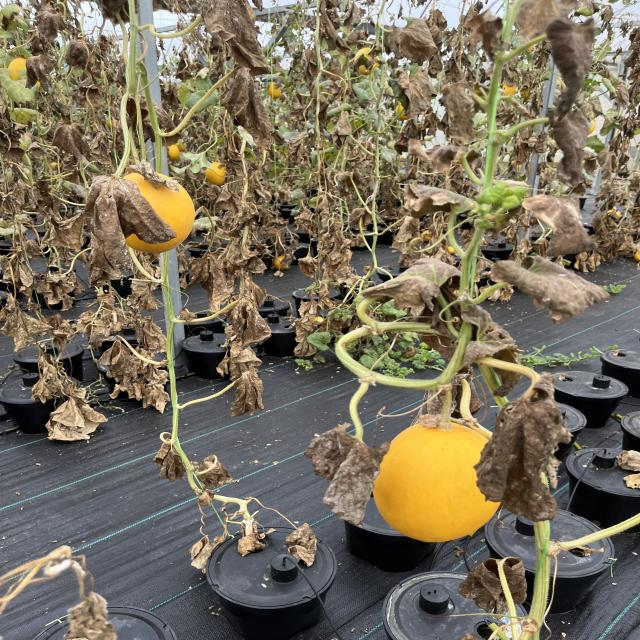bacterial wilt: (482, 399, 574, 506), (321, 415, 394, 513), (378, 257, 458, 314), (387, 139, 459, 201), (519, 203, 600, 255), (213, 34, 272, 86), (228, 74, 268, 143), (387, 23, 445, 68), (258, 124, 313, 168), (198, 0, 267, 34), (49, 393, 103, 435), (444, 81, 492, 125), (328, 93, 366, 147), (77, 295, 124, 338), (38, 327, 71, 385), (226, 372, 272, 413), (322, 1, 372, 38), (31, 208, 75, 250), (320, 199, 354, 252), (407, 188, 474, 214), (7, 251, 46, 294), (133, 366, 168, 409), (6, 304, 46, 339), (227, 307, 263, 345), (195, 460, 235, 494), (205, 205, 238, 244), (39, 7, 71, 46), (274, 527, 315, 557), (25, 55, 58, 88), (273, 89, 309, 119), (79, 54, 110, 88), (221, 342, 256, 372), (207, 276, 235, 312), (402, 84, 436, 113), (328, 160, 366, 184), (187, 252, 216, 283), (214, 176, 240, 210), (227, 275, 259, 302), (139, 327, 166, 358), (6, 214, 34, 243), (470, 20, 491, 56), (110, 338, 132, 371), (229, 239, 258, 264), (244, 182, 258, 233), (54, 274, 86, 296), (201, 537, 224, 566), (236, 532, 264, 554), (7, 125, 37, 145), (90, 118, 109, 148), (11, 170, 30, 196), (65, 126, 83, 150)
